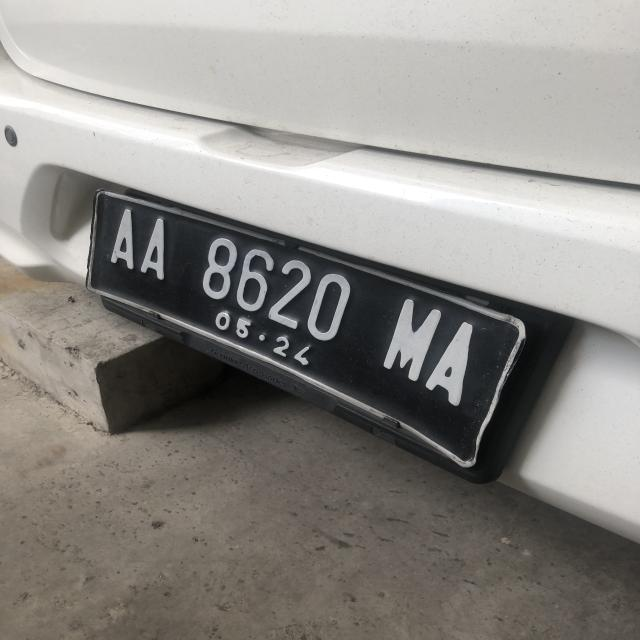0: (306, 270, 357, 342)
2: (266, 260, 314, 332)
6: (234, 248, 278, 315)
8: (200, 232, 236, 300)
A: (432, 321, 481, 407), (140, 215, 177, 282), (110, 210, 138, 272)
M: (382, 290, 438, 384)
